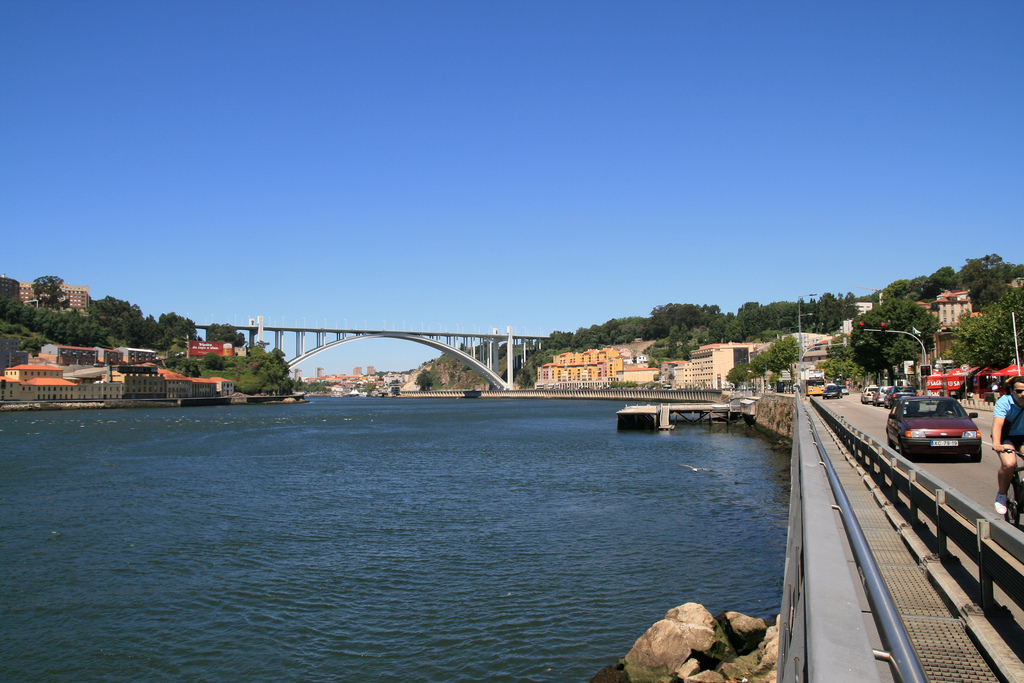arrabida: (197, 316, 553, 392)
